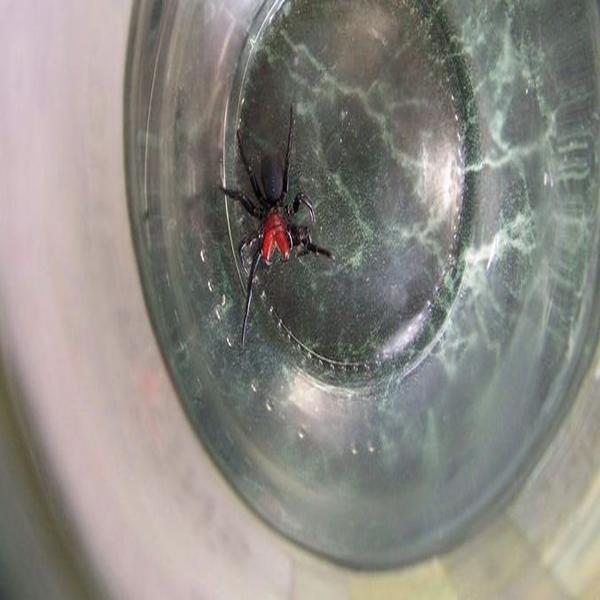Red Headed Mouse Spider: (225, 111, 333, 341)
